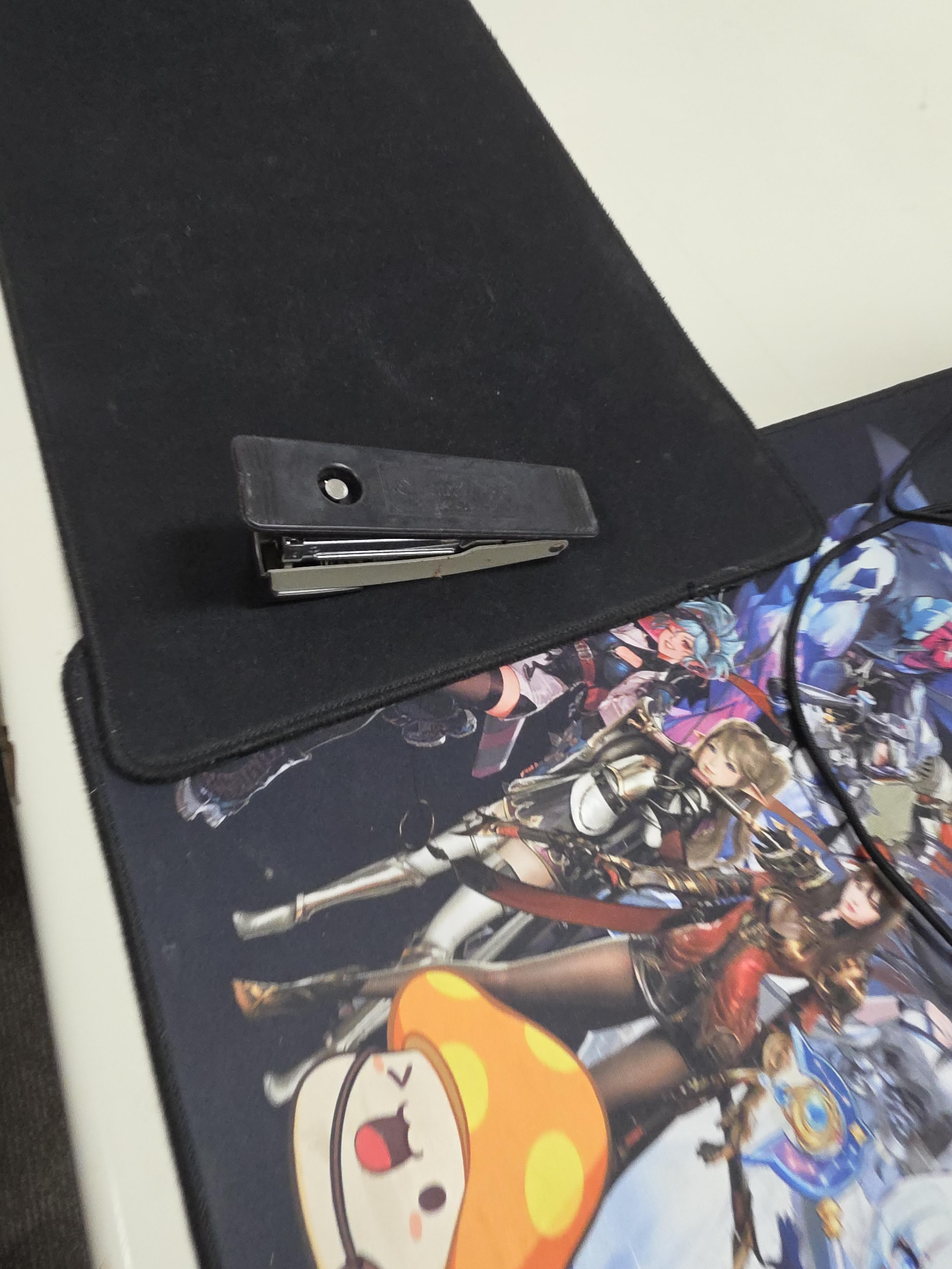stapler: (230, 434, 600, 599)
